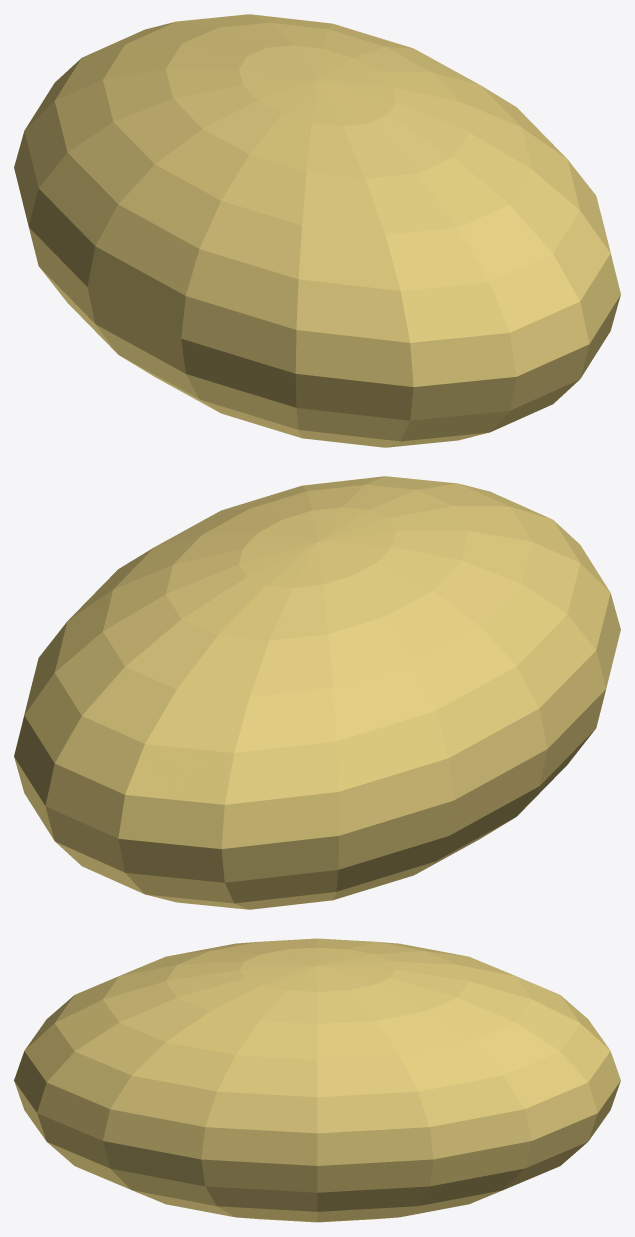
Rendered from NomadsGoldenScarab.glb.
3 renders of one model, top to bottom at view 1: azimuth 30°, elevation 25°; view 2: azimuth 150°, elevation 25°; view 3: azimuth 270°, elevation 25°, orthographic. The views are drawn at different scales.
Visible parts, largest first — view 1: NomadsGoldenScarab; view 2: NomadsGoldenScarab; view 3: NomadsGoldenScarab.
Part boxes in pixels (x1,y1,x2,y2): NomadsGoldenScarab: (14,14,620,447); NomadsGoldenScarab: (14,476,620,909); NomadsGoldenScarab: (14,938,620,1222).
Size of the model in its own units: 1.6 by 1 by 2.4.
